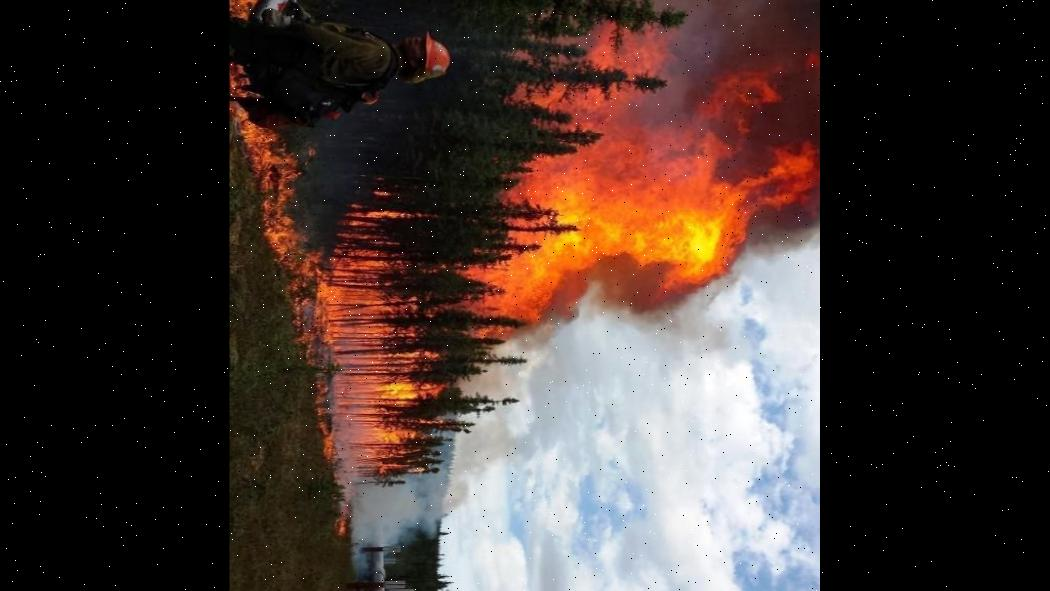fire: (487, 0, 819, 338), (264, 124, 408, 518)
